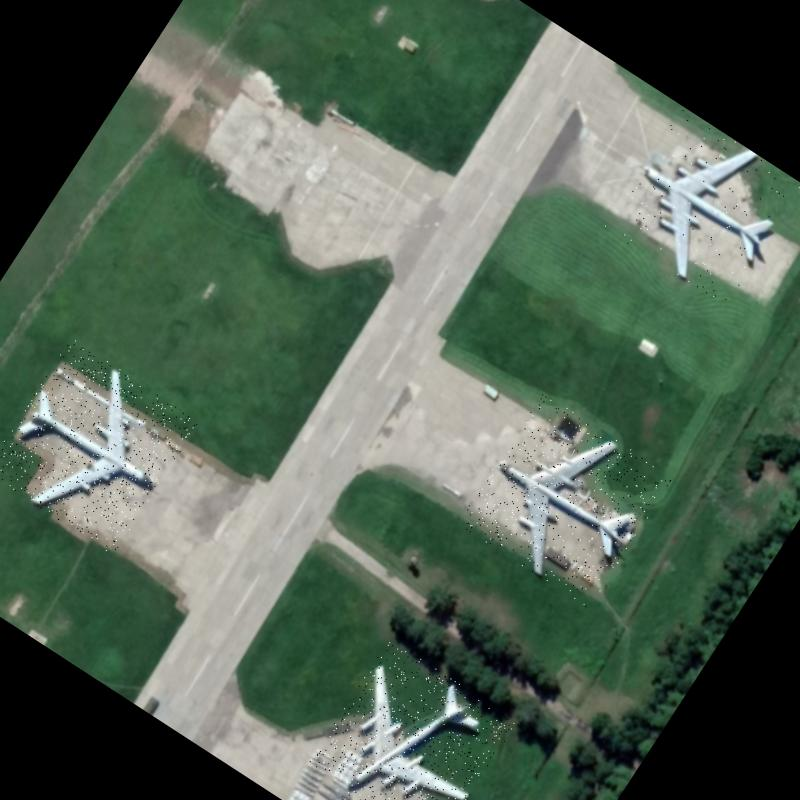A12: (330, 753, 485, 800)
A17: (457, 392, 674, 610), (0, 337, 200, 555), (603, 106, 800, 307), (308, 639, 517, 800)
